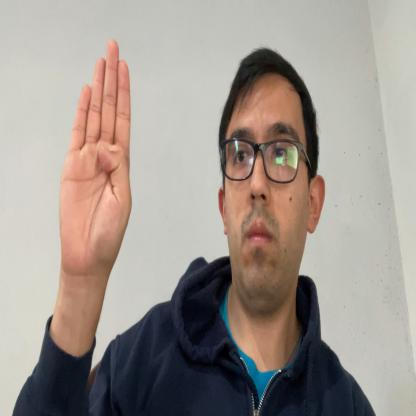B: (59, 38, 133, 279)
